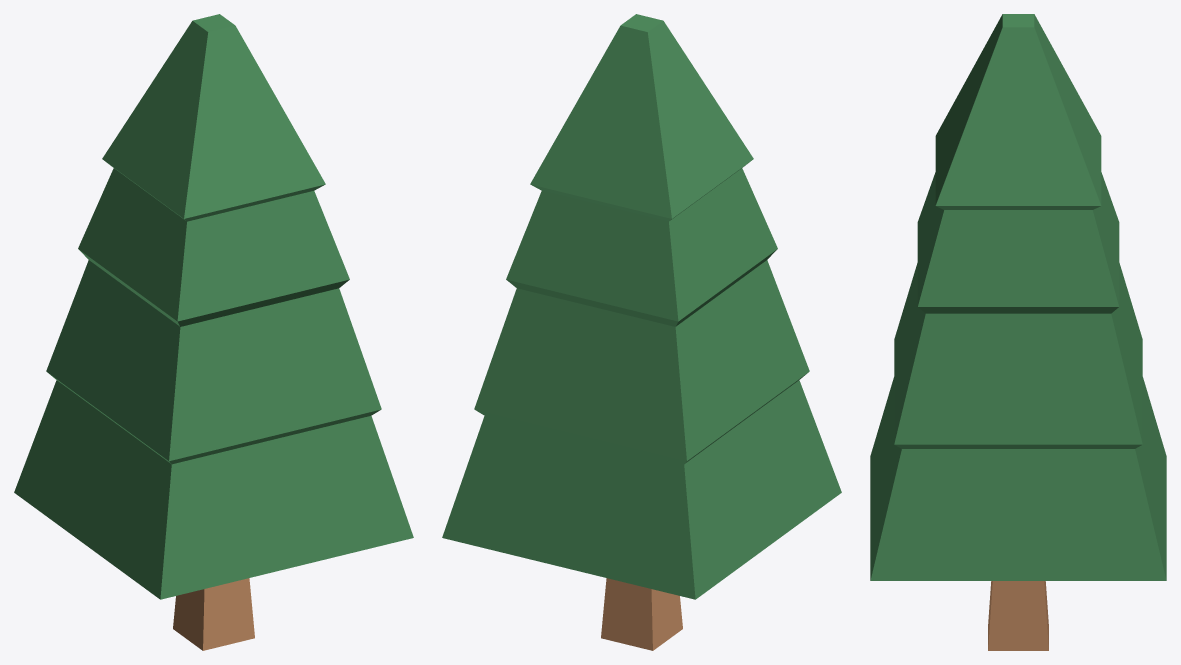
Rendered from Oak Tree.fbx.
3 renders of one model, left to right at view 1: azimuth 30°, elevation 25°; view 2: azimuth 150°, elevation 25°; view 3: azimuth 270°, elevation 25°, orthographic.
Visible parts, largest first — view 1: Leaves, Trunk; view 2: Leaves, Trunk; view 3: Leaves, Trunk.
Boxes of the visible parts, box(x1,y1,x2,y2) form: Leaves: box(14, 14, 413, 599); Trunk: box(173, 578, 254, 650); Leaves: box(442, 14, 841, 599); Trunk: box(601, 578, 682, 650); Leaves: box(870, 14, 1166, 580); Trunk: box(988, 581, 1048, 650).
Bounding box in the file's own units: 357 × 822 × 357.
